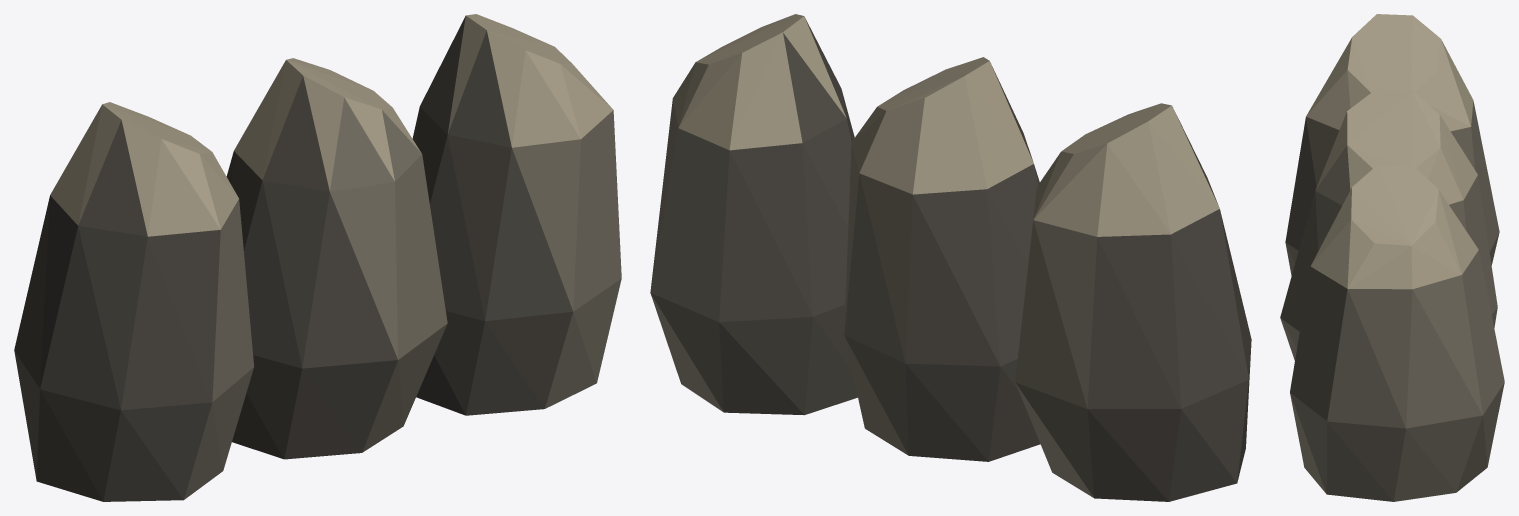
File: TW_ROCK_SPLIT_MASS_B_LOD0.glb
3 renders of one model, left to right at view 1: azimuth 30°, elevation 25°; view 2: azimuth 150°, elevation 25°; view 3: azimuth 270°, elevation 25°, orthographic. The views are drawn at different scales.
Parts seen in each view (by area): view 1: TW_ROCK_SPLIT_MASS_B_LOD0; view 2: TW_ROCK_SPLIT_MASS_B_LOD0; view 3: TW_ROCK_SPLIT_MASS_B_LOD0.
Part boxes in pixels (bbox=[...]): TW_ROCK_SPLIT_MASS_B_LOD0: bbox=[14, 14, 621, 501]; TW_ROCK_SPLIT_MASS_B_LOD0: bbox=[650, 14, 1251, 501]; TW_ROCK_SPLIT_MASS_B_LOD0: bbox=[1280, 14, 1504, 501].
Bounding box in the file's own units: 1.96 × 1.16 × 0.7963.
Materials: 1 (1 with a texture image).
